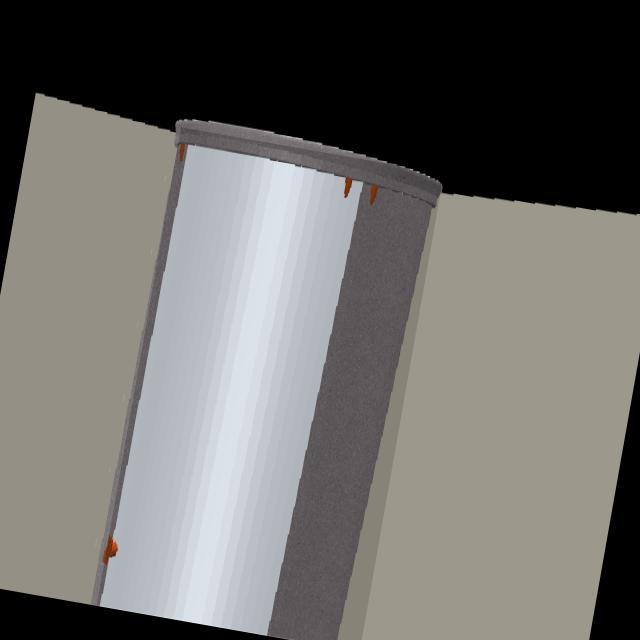shower: (96, 144, 440, 640)
